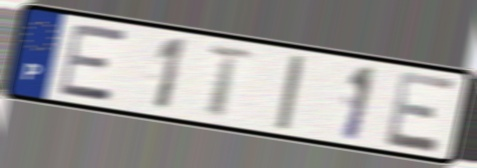1: (147, 35, 191, 112), (342, 64, 379, 145)
E: (383, 68, 460, 156), (56, 22, 129, 104)
I: (273, 52, 308, 133)
T: (203, 42, 257, 121)
